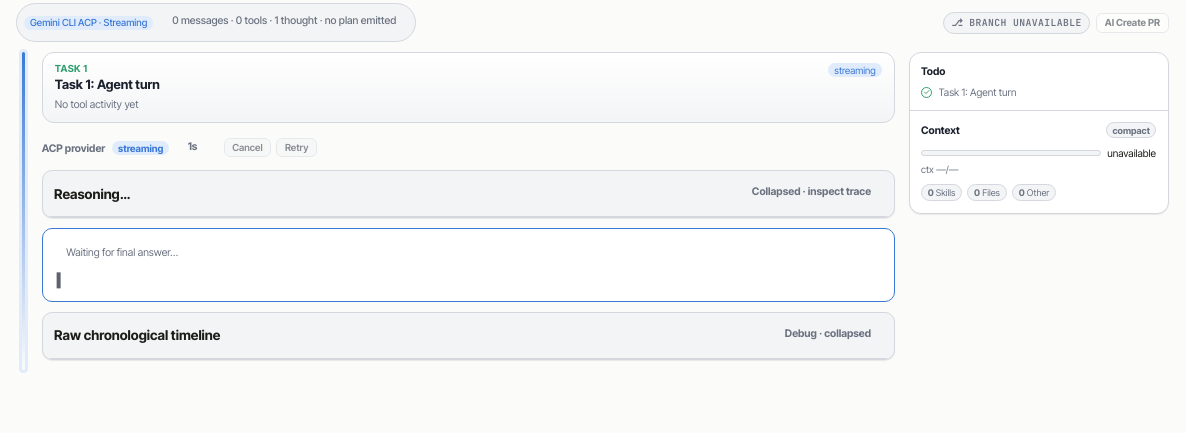
it: AgentThread renderer › renders reasoning section collapsed and expandable
Step 1. Click the heading "Reasoning… Collapsed · inspect trace" → {"x": 92, "y": 194}, box [43,171,894,217]
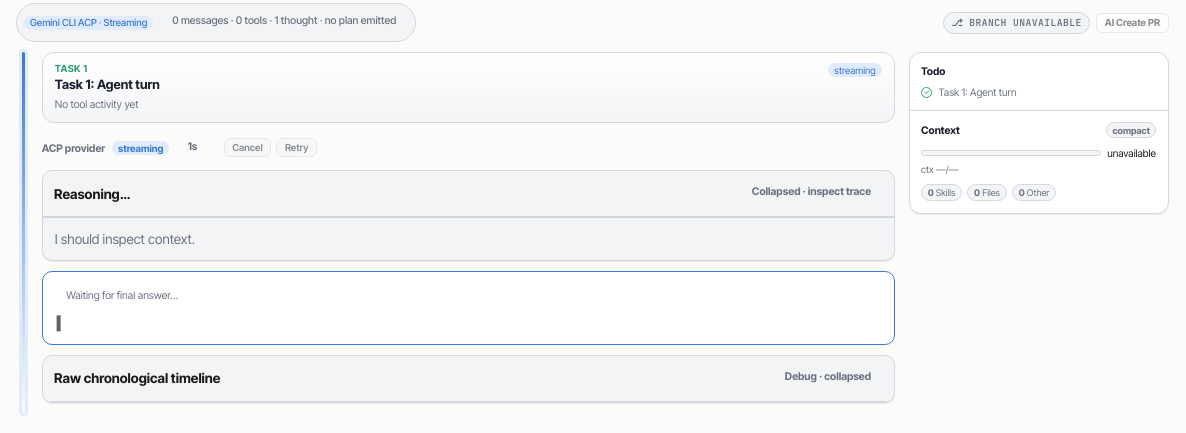
Check: the text "I should inspect context." is shown, box [43,217,894,260]
